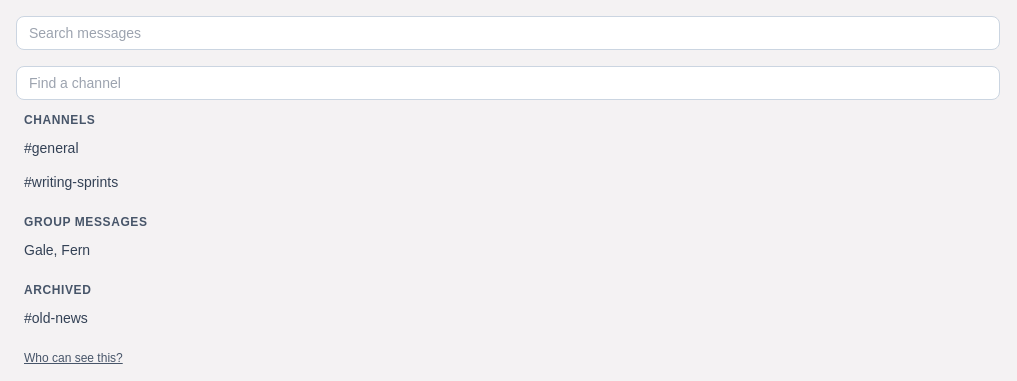
Test case: ChatSidebar › says so when nothing matches, and leaves the message search alone
The image size is (1017, 381).
Type "zzz" into the search field labelled "Find a channel".
click(508, 83); type("zzz")  # box [16,66,1000,100]
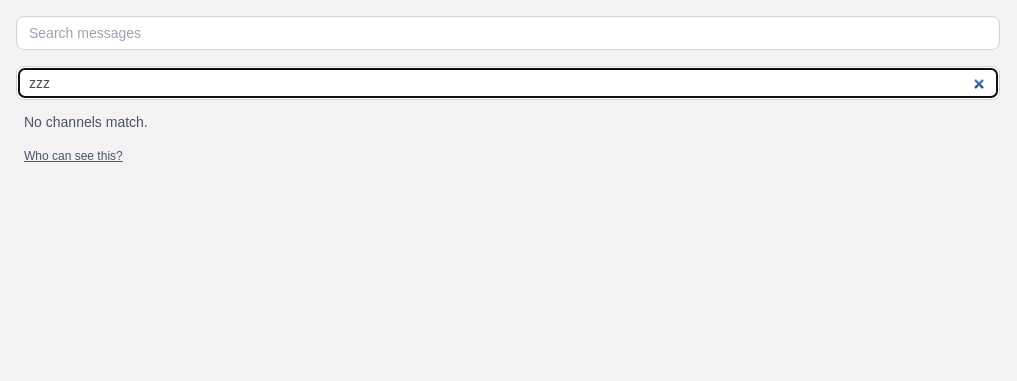
Check: the search field labelled "Search messages" is empty, box [16,16,1000,50]
Check: the text "No channels match." is shown, box [24,114,148,130]
